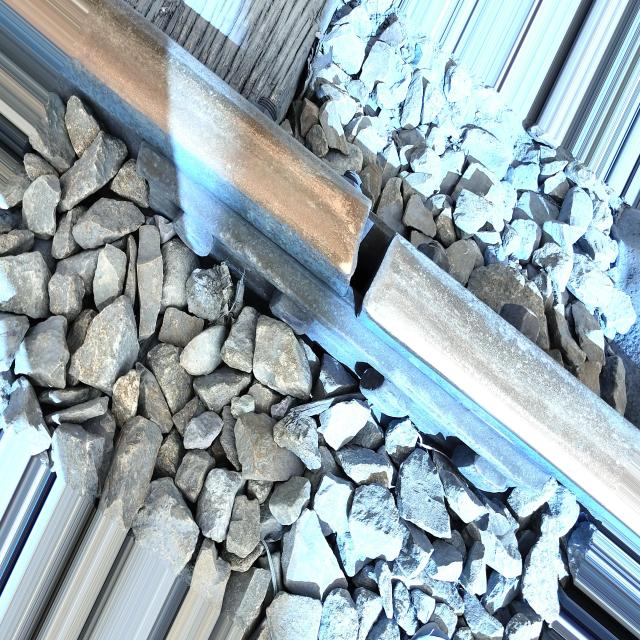crack: (333, 171, 407, 359)
